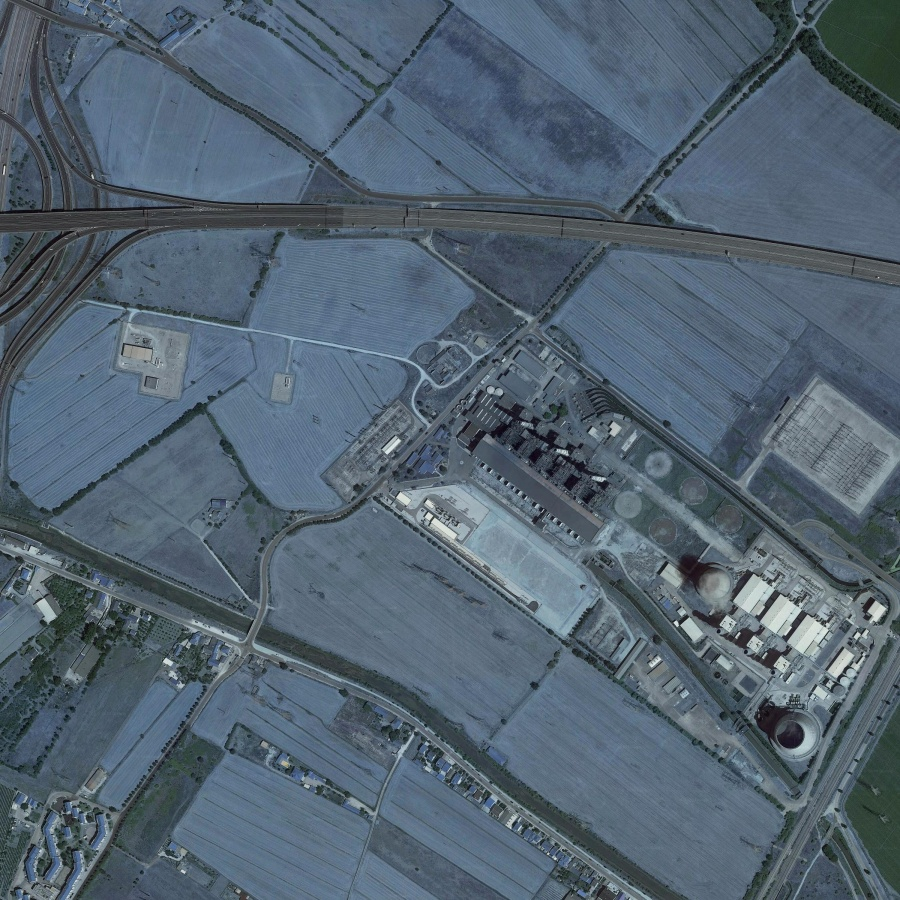PowerPlant: (430, 369, 884, 776)
